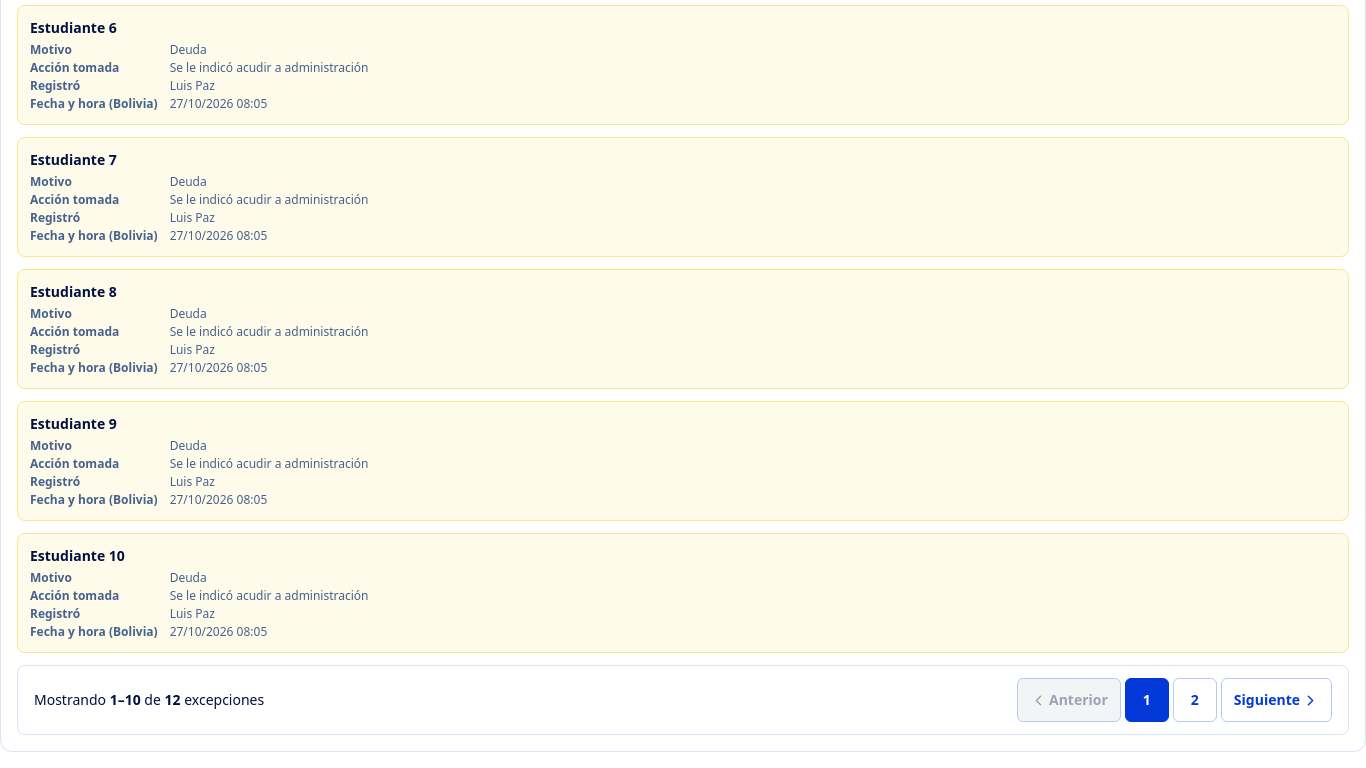
Scenario: reporte de excepciones de no habilitados (INCI-04) › pagina las excepciones de 10 en 10
(page scrolled)
Expected: the heading "Estudiante 10" is shown, x1=30 y1=546 x2=125 y2=565
Expected: the text "Estudiante 11" is not shown
Click the button with aria-label "Página siguiente" at (1276, 700), box x1=1221 y1=678 x2=1332 y2=722
(page scrolled)
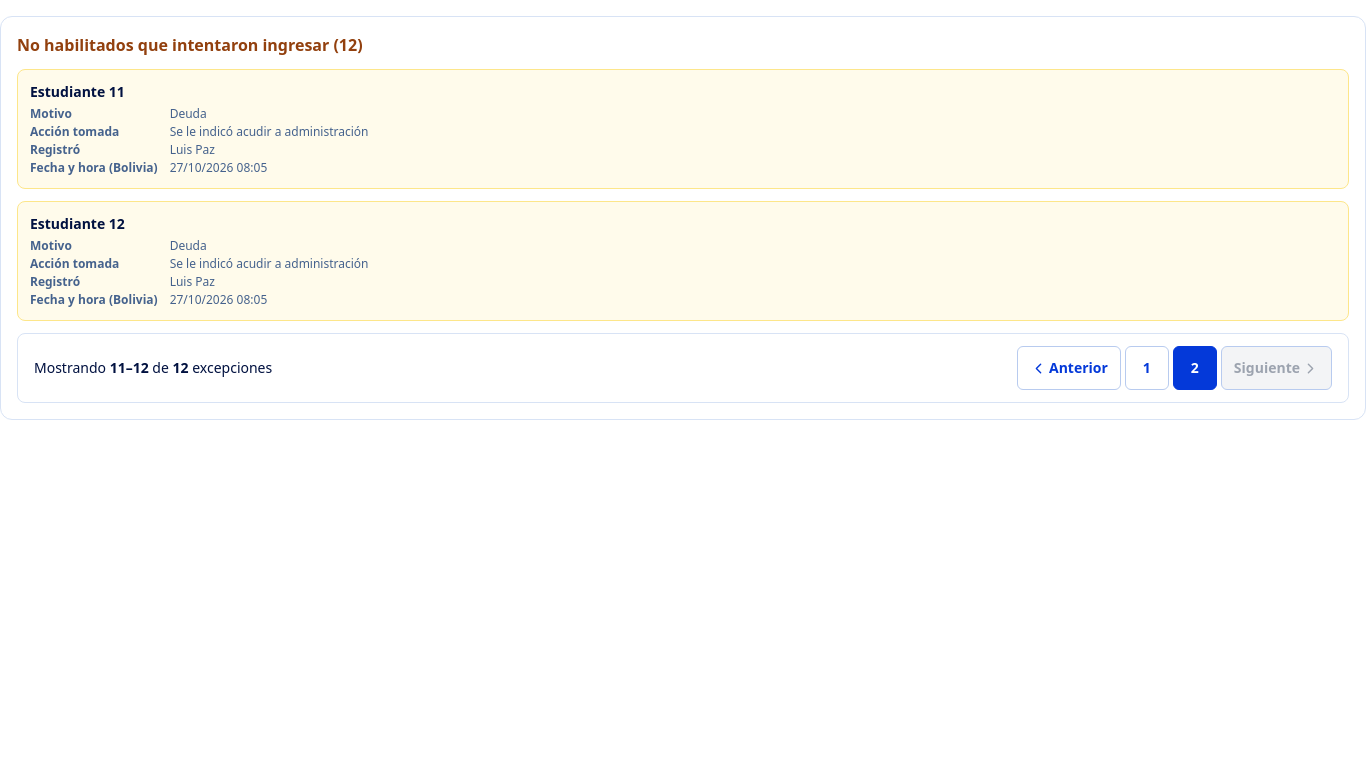
Result: the heading "Estudiante 11" is shown at x1=30 y1=82 x2=125 y2=101
